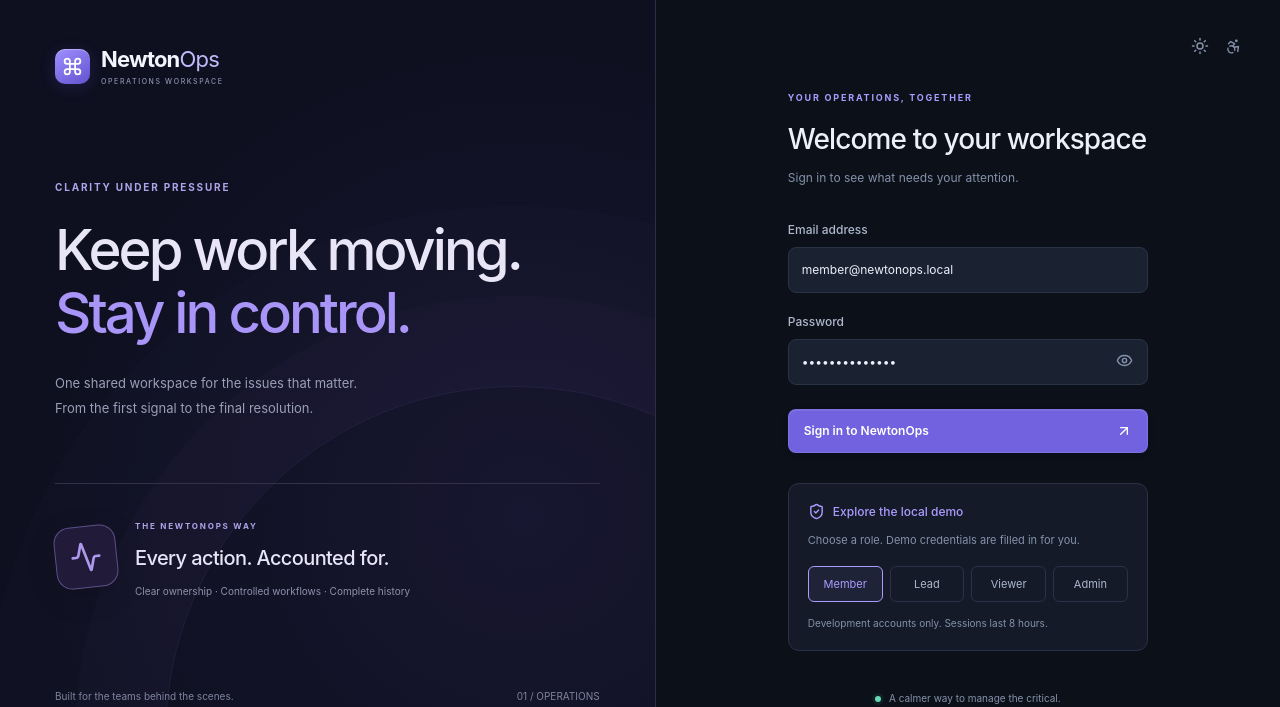
connected workspace › signs in and displays backend metrics
The image size is (1280, 707).
Click the button "Sign in to NewtonOps" at [866, 430], box [788,409,1148,453]
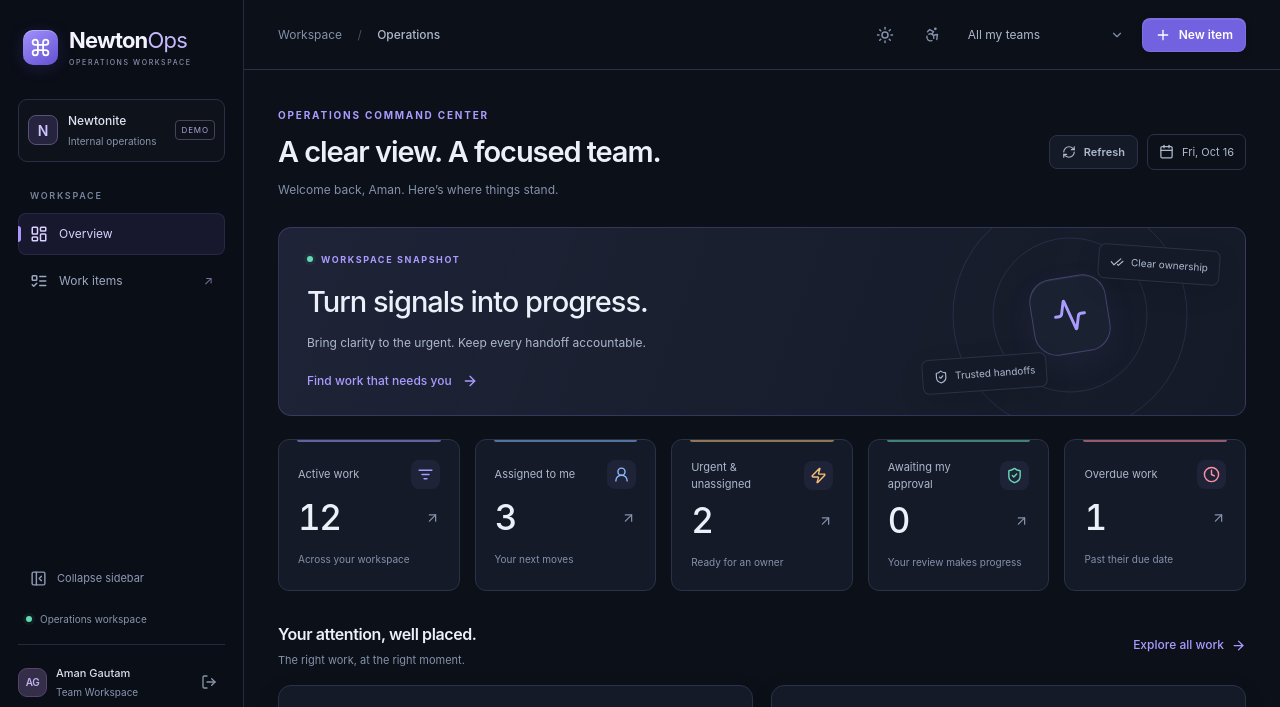
Expected: the heading "A clear view. A focused team." is shown, [278,134,660,170]
Expected: the text "12" is shown, [298,496,340,538]
